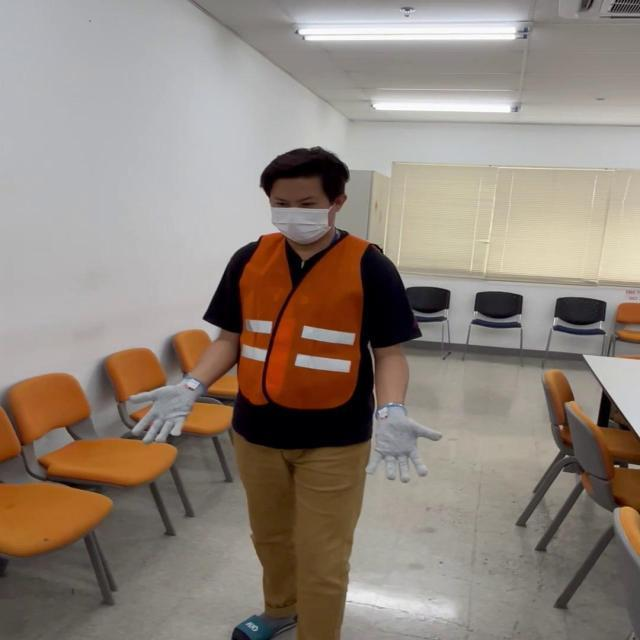gloved_hand: (366, 408, 444, 484), (129, 372, 200, 444)
